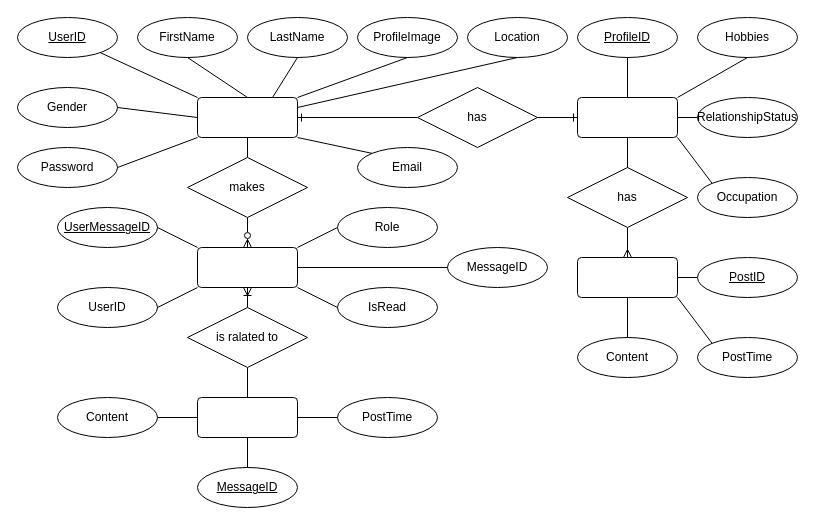
This 815x525 diagram has some shape labels left out. Here are the shapes that lost their labels. From the top down, the box of each, then its label:
(196, 96, 298, 138): User
(576, 96, 678, 138): Profile
(196, 246, 298, 288): MessageOperation
(576, 256, 678, 298): Post
(196, 396, 298, 438): Message
